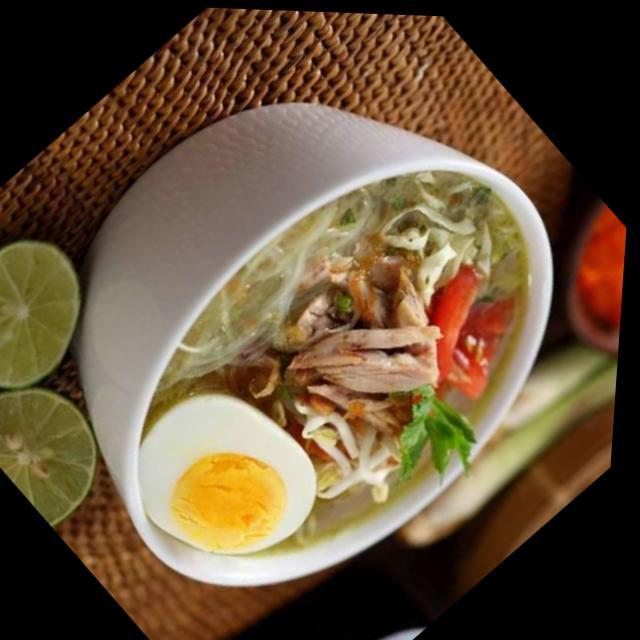Soto: (73, 125, 556, 589)
